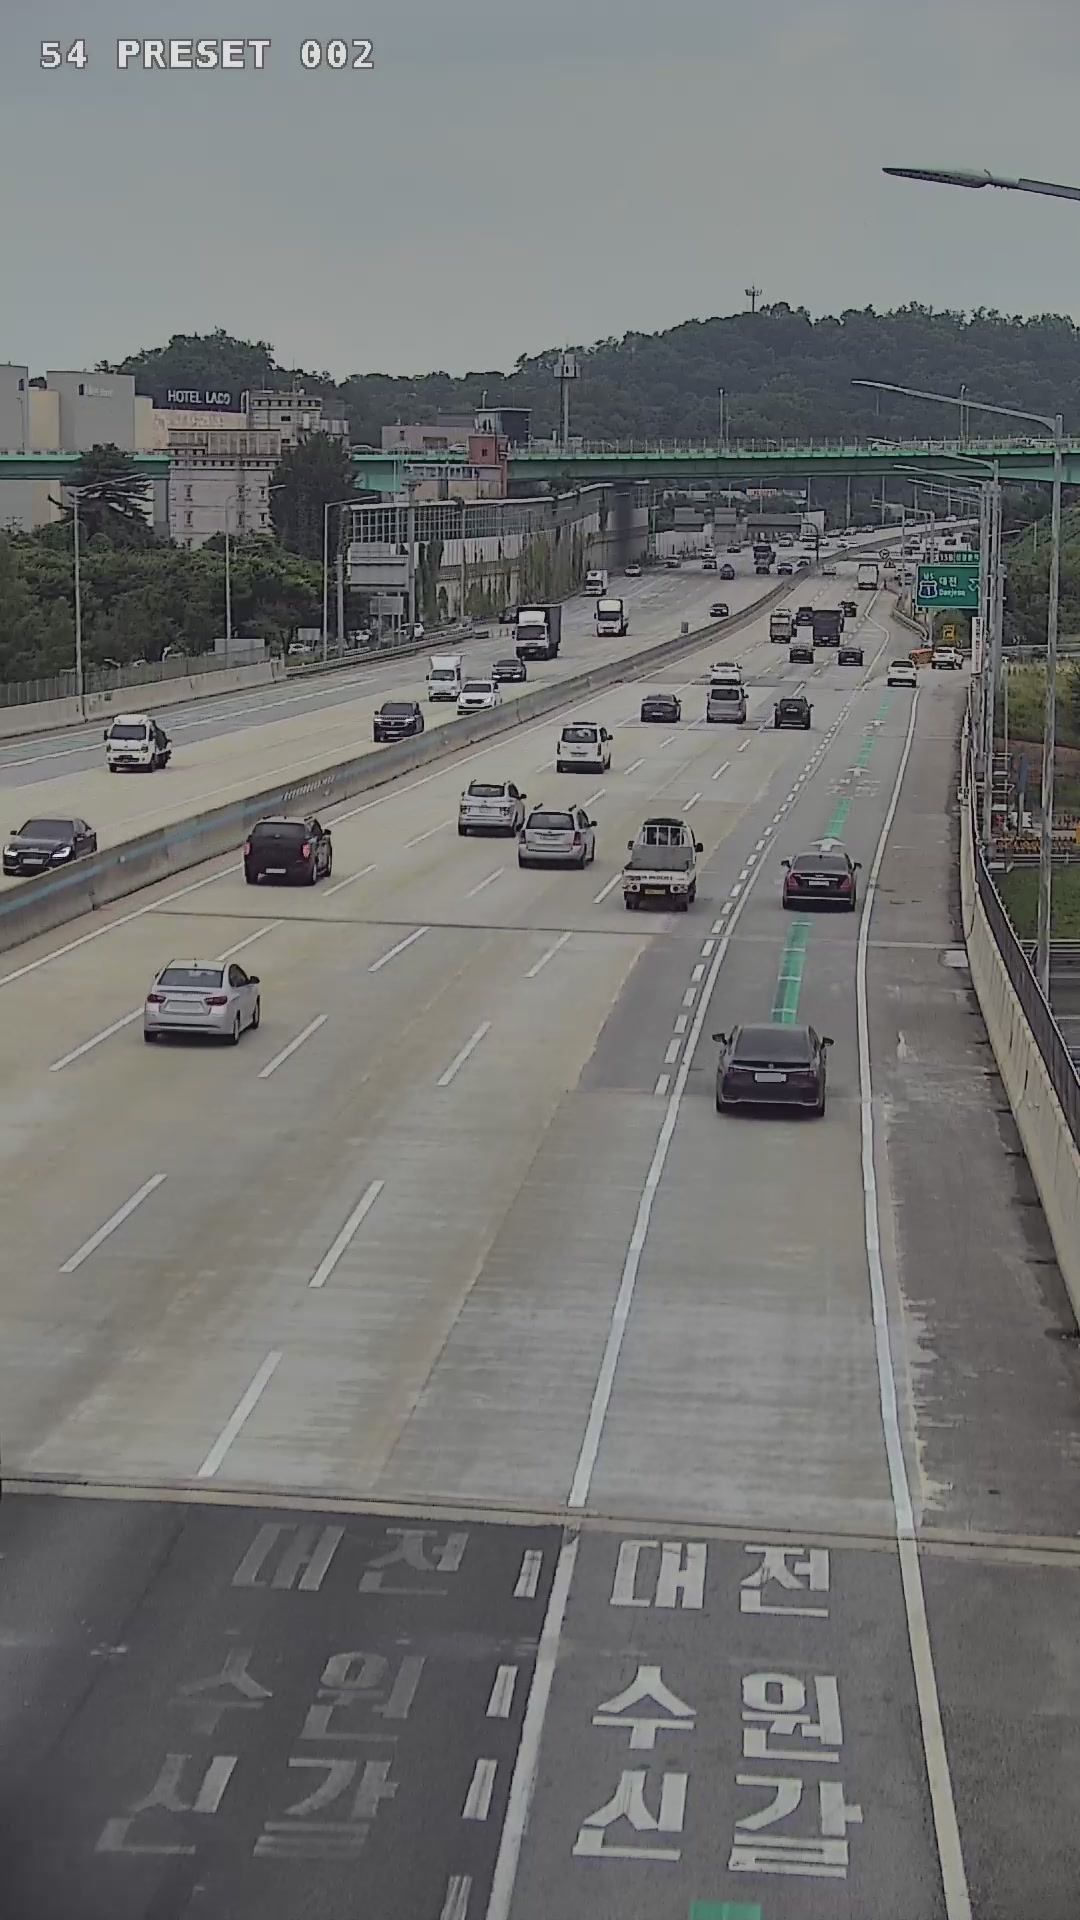Scissors: (705, 1023, 819, 1120)
